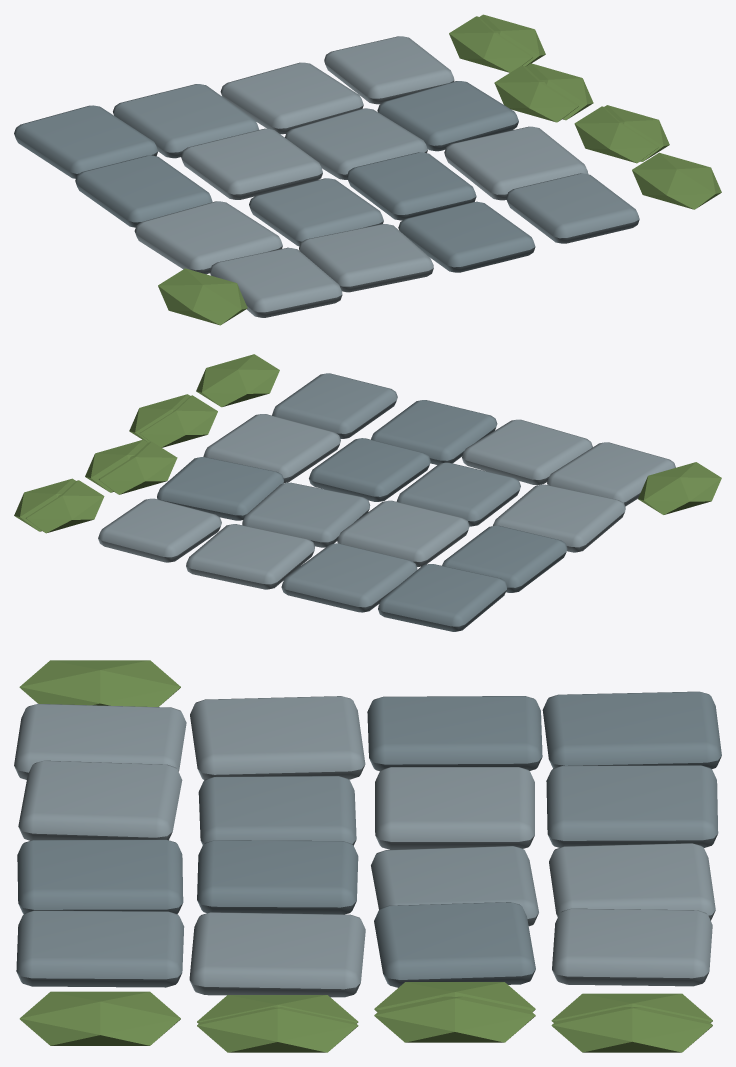
Rendered from SM_Path_4m.fbx.
3 views of the same model, one above another, from view 1: azimuth 30°, elevation 25°; view 2: azimuth 150°, elevation 25°; view 3: azimuth 270°, elevation 25° (orthographic). The views are drawn at different scales.
Parts seen in each view (by area): view 1: Flagstone_02_1, Flagstone_01_0, Flagstone_03_0, Flagstone_00_2, Flagstone_01_3, Flagstone_03_2, Flagstone_03_1, Flagstone_00_3, Flagstone_00_1, Flagstone_02_3, Flagstone_02_0, Flagstone_00_0 (+12 smaller); view 2: Flagstone_03_1, Flagstone_03_0, Flagstone_03_2, Flagstone_01_3, Flagstone_02_1, Flagstone_01_0, Flagstone_00_1, Flagstone_03_3, Flagstone_02_2, Flagstone_02_3, Flagstone_01_2, Flagstone_00_3 (+12 smaller); view 3: Flagstone_01_3, Flagstone_03_1, Flagstone_01_0, Flagstone_02_1, Flagstone_03_0, Flagstone_00_3, Flagstone_02_0, Flagstone_02_3, Flagstone_00_1, Flagstone_03_3, Flagstone_00_2, Flagstone_01_2 (+12 smaller).
Part boxes in pixels (x1,y1,x2,y2): Flagstone_02_1: [181, 128, 322, 199]; Flagstone_01_0: [134, 201, 282, 274]; Flagstone_03_0: [14, 105, 157, 178]; Flagstone_00_2: [398, 201, 535, 272]; Flagstone_01_3: [444, 126, 588, 200]; Flagstone_03_2: [220, 62, 363, 134]; Flagstone_03_1: [113, 84, 259, 158]; Flagstone_00_3: [506, 173, 639, 243]; Flagstone_00_1: [299, 224, 433, 292]; Flagstone_02_3: [377, 81, 518, 151]; Flagstone_02_0: [75, 155, 212, 227]; Flagstone_00_0: [210, 247, 342, 317]; Flagstone_03_1: [281, 543, 417, 612]; Flagstone_03_0: [378, 564, 507, 631]; Flagstone_03_2: [186, 524, 314, 589]; Flagstone_01_3: [203, 414, 340, 482]; Flagstone_02_1: [337, 500, 469, 567]; Flagstone_01_0: [493, 484, 625, 552]; Flagstone_00_1: [462, 419, 592, 485]; Flagstone_03_3: [98, 498, 221, 562]; Flagstone_02_2: [242, 482, 370, 547]; Flagstone_02_3: [157, 457, 283, 520]; Flagstone_01_2: [309, 438, 430, 501]; Flagstone_00_3: [272, 373, 397, 438]; Flagstone_01_3: [189, 912, 365, 997]; Flagstone_03_1: [546, 765, 718, 847]; Flagstone_01_0: [190, 696, 365, 780]; Flagstone_02_1: [375, 767, 534, 849]; Flagstone_03_0: [542, 691, 721, 768]; Flagstone_00_3: [16, 910, 184, 987]; Flagstone_02_0: [367, 696, 542, 771]; Flagstone_02_3: [374, 902, 535, 987]; Flagstone_00_1: [18, 760, 182, 840]; Flagstone_03_3: [552, 908, 712, 986]; Flagstone_00_2: [17, 839, 183, 913]; Flagstone_01_2: [197, 840, 358, 914].
Size of what is drawn, in the model's own units: 577 by 27.51 by 447.
